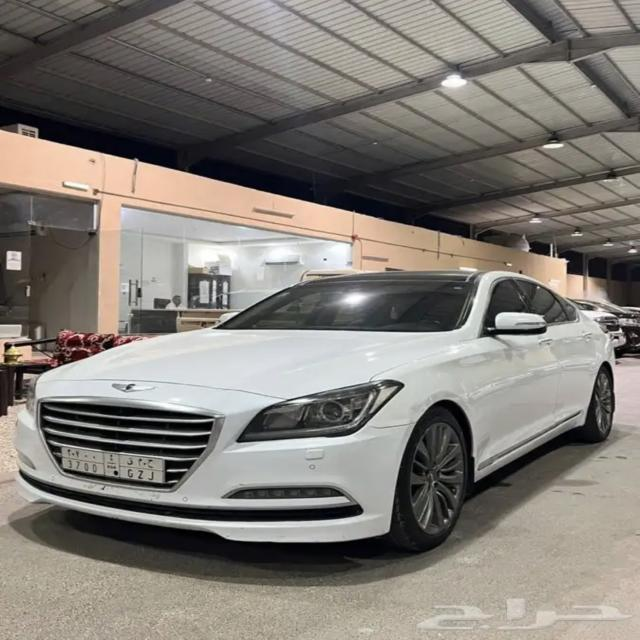license_plate: (61, 444, 166, 484)
